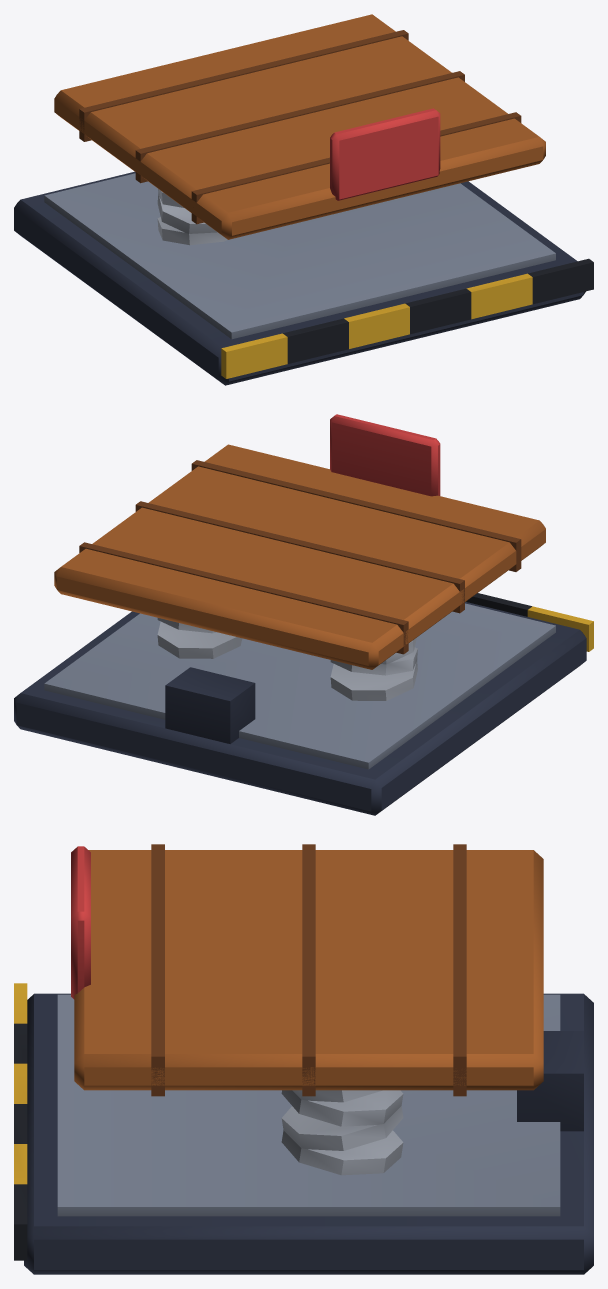
Rendered from b_feder.glb.
The picture shows the model from 3 angles, top to bottom: view 1: azimuth 30°, elevation 25°; view 2: azimuth 150°, elevation 25°; view 3: azimuth 270°, elevation 25°; orthographic projection. The views are drawn at different scales.
Visible parts, largest first — view 1: body, board; view 2: body, board; view 3: body, board.
Boxes of the visible parts, x1,y1,x2,y2 form: body: [14, 171, 593, 385]; board: [54, 14, 545, 239]; body: [14, 593, 593, 815]; board: [54, 414, 545, 669]; body: [14, 983, 593, 1274]; board: [71, 844, 543, 1096].
Bounding box in the file's own units: 1.7 × 0.92 × 1.73.
